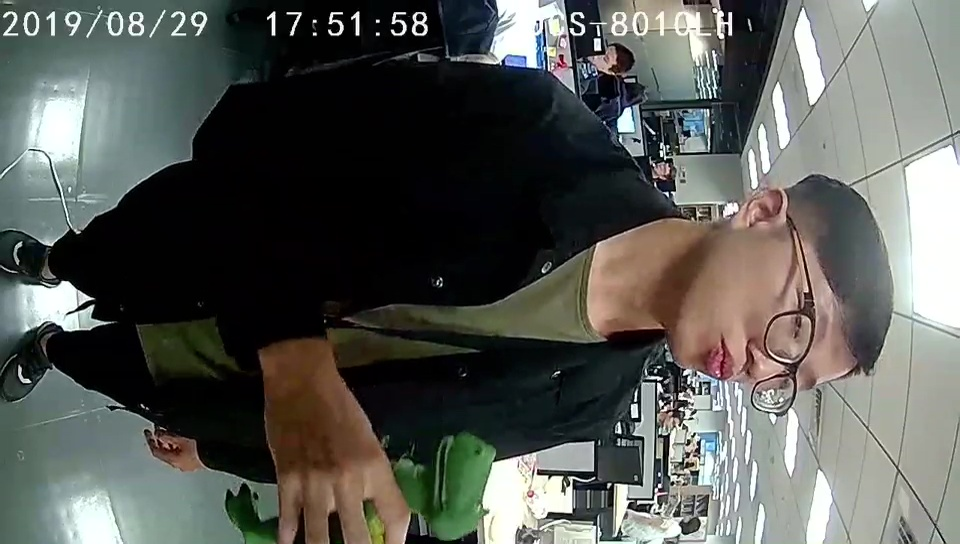rex: (226, 429, 496, 544)
